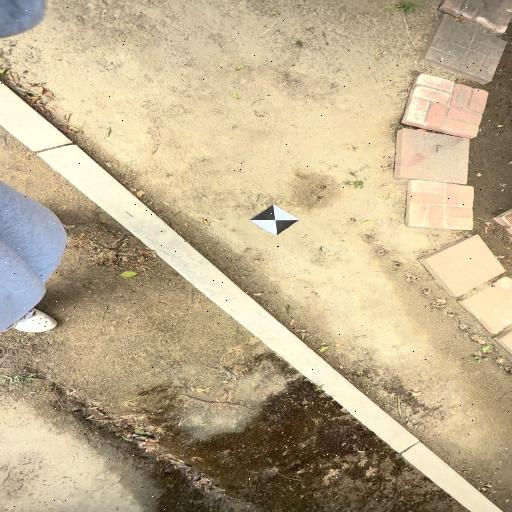target: (251, 205, 299, 235)
